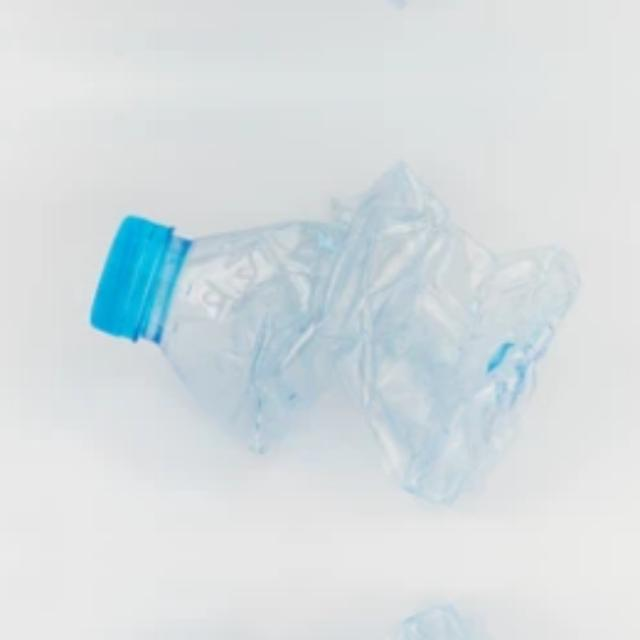Plastic: (80, 133, 602, 505), (80, 603, 602, 640), (80, 0, 602, 35)
